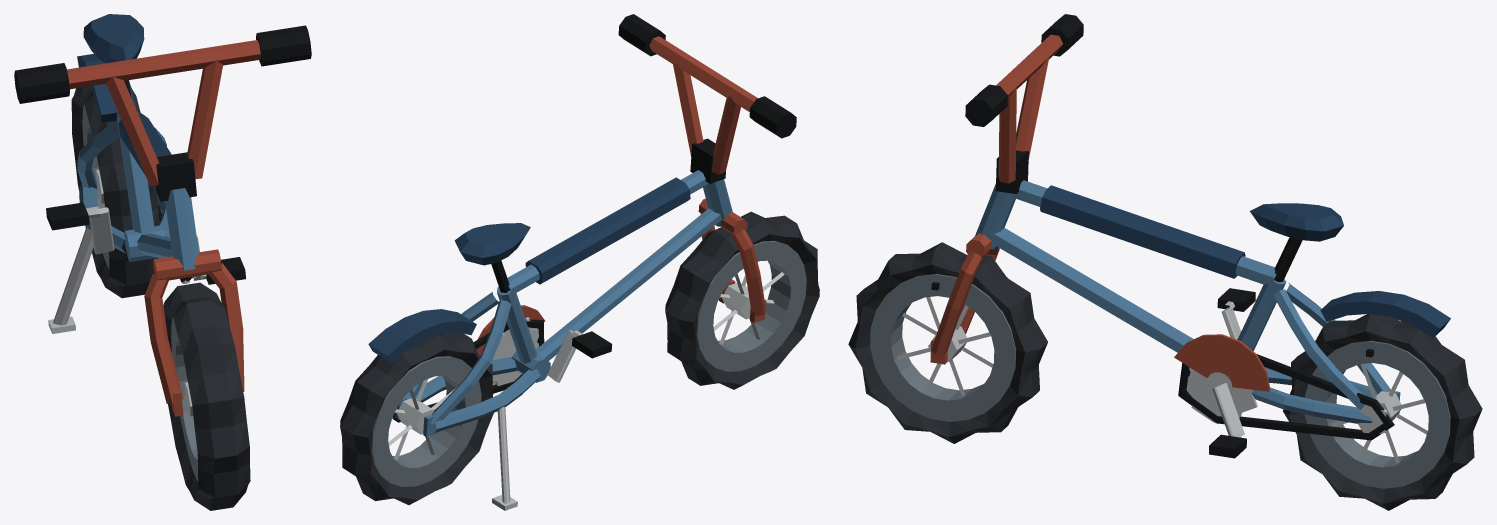
File: kid-s-bmx-bike-cec43e.glb
3 views of the same model, side by side, from view 1: azimuth 30°, elevation 25°; view 2: azimuth 150°, elevation 25°; view 3: azimuth 270°, elevation 25° (orthographic). The views are drawn at different scales.
Visible parts, largest first — view 1: steering, frame, wheel-front-mesh, wheel-rear-mesh; view 2: frame, wheel-front-mesh, wheel-rear-mesh, steering; view 3: frame, wheel-front-mesh, wheel-rear-mesh, steering.
Part boxes in pixels (x1=…): steering: x1=14, y1=25, x2=311, y2=416; frame: x1=46, y1=14, x2=245, y2=333; wheel-front-mesh: x1=163, y1=282, x2=250, y2=510; wheel-rear-mesh: x1=71, y1=86, x2=159, y2=298; frame: x1=368, y1=170, x2=732, y2=510; wheel-front-mesh: x1=665, y1=211, x2=819, y2=389; wheel-rear-mesh: x1=340, y1=332, x2=493, y2=504; steering: x1=618, y1=14, x2=796, y2=322; frame: x1=975, y1=180, x2=1450, y2=458; wheel-front-mesh: x1=848, y1=242, x2=1047, y2=443; wheel-rear-mesh: x1=1283, y1=314, x2=1482, y2=510; steering: x1=930, y1=14, x2=1083, y2=364.
Size of the model in its own units: 0.7166 by 0.9041 by 1.32.
